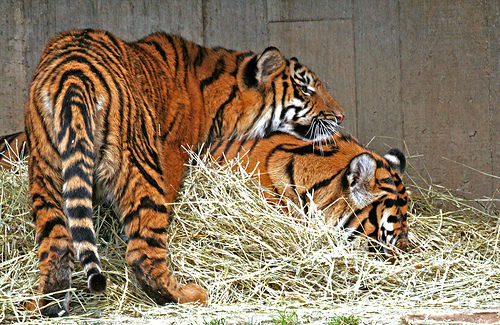Tigre: (51, 15, 334, 280)
